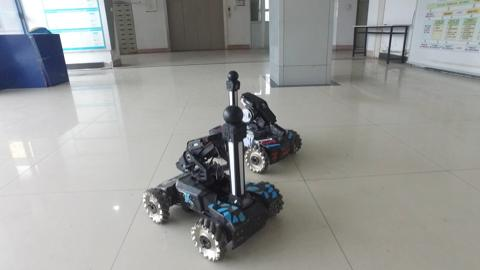chariot: (137, 100, 295, 266), (208, 72, 303, 179)
